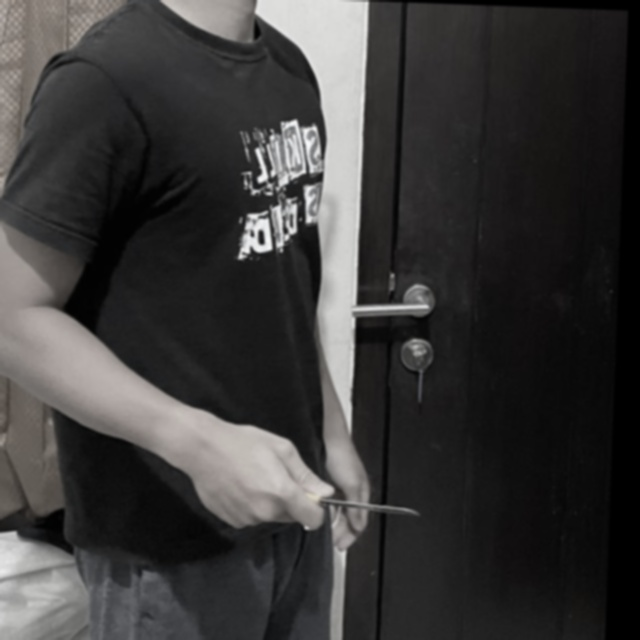Sharp-Object: (293, 489, 423, 518)
